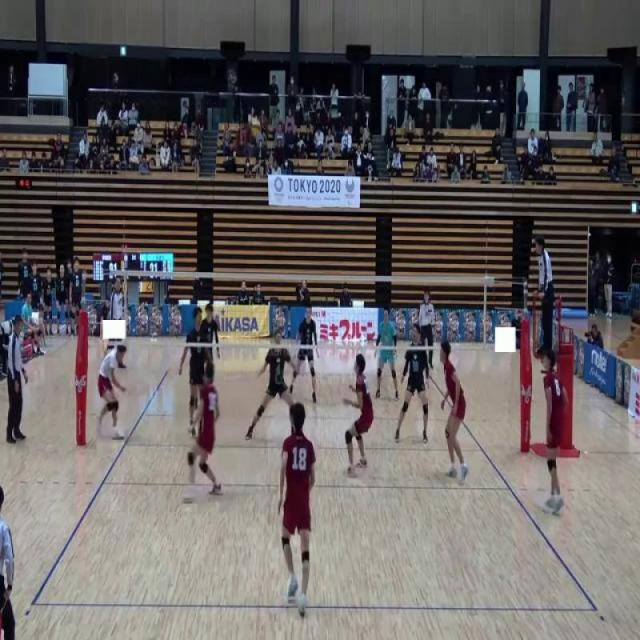volleyball: (250, 119, 262, 138)
